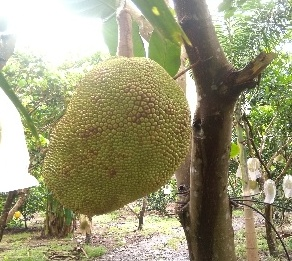Mit: (40, 56, 191, 217)
